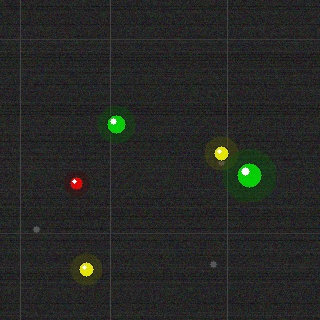green_normal: (235, 161, 263, 189), (105, 113, 127, 135)
red_fault: (68, 175, 84, 191)
yellow_warning: (212, 144, 230, 162), (77, 260, 95, 278)
